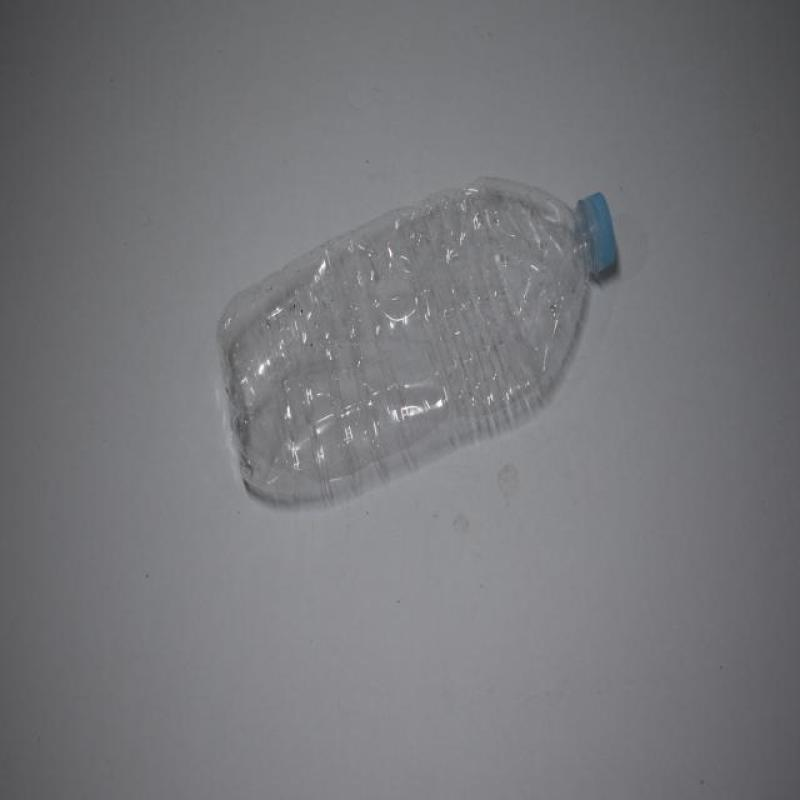botella: (217, 174, 622, 516)
